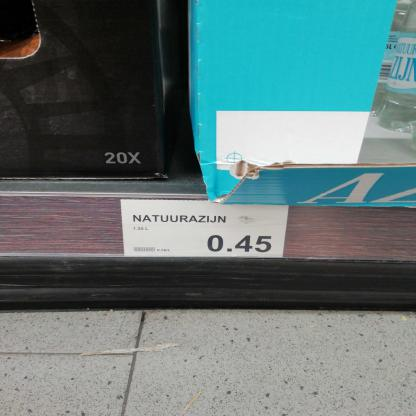prtg: (121, 200, 290, 258)
